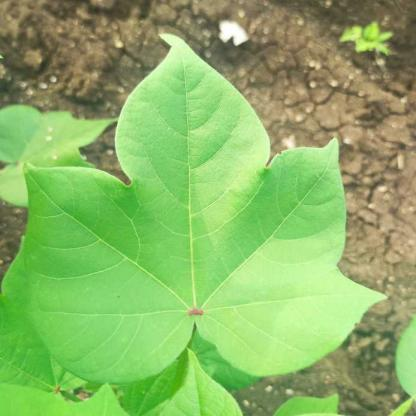cotton: (24, 29, 390, 387)
